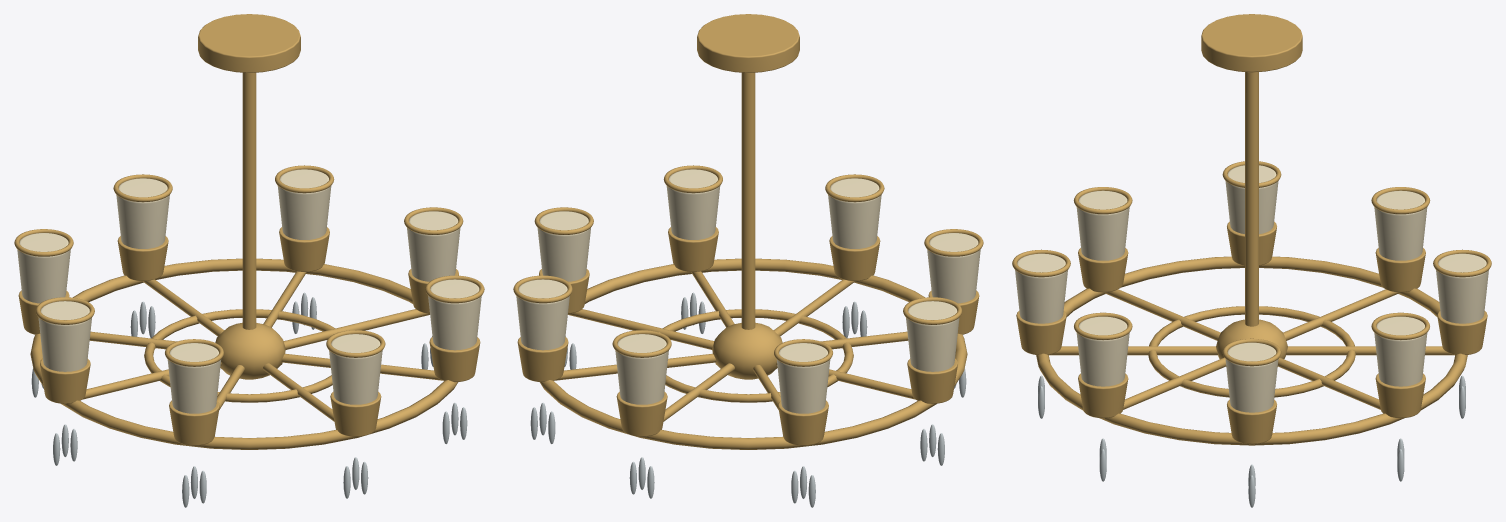
File: brass_chandelier.glb
3 views of the same model, side by side, from view 1: azimuth 30°, elevation 25°; view 2: azimuth 150°, elevation 25°; view 3: azimuth 270°, elevation 25° (orthographic).
Parts seen in each view (by area): view 1: Brass, Ivory, Chrome; view 2: Brass, Ivory, Chrome; view 3: Brass, Ivory, Chrome.
Boxes of the visible parts, x1,y1,x2,y2 form: Brass: [14, 14, 484, 449]; Ivory: [17, 169, 481, 413]; Chrome: [31, 292, 467, 507]; Brass: [513, 14, 983, 449]; Ivory: [516, 169, 980, 413]; Chrome: [530, 292, 966, 507]; Brass: [1012, 14, 1491, 445]; Ivory: [1015, 165, 1488, 412]; Chrome: [1038, 375, 1465, 507].
Size of the model in its own units: 2.64 by 2.31 by 2.64.
